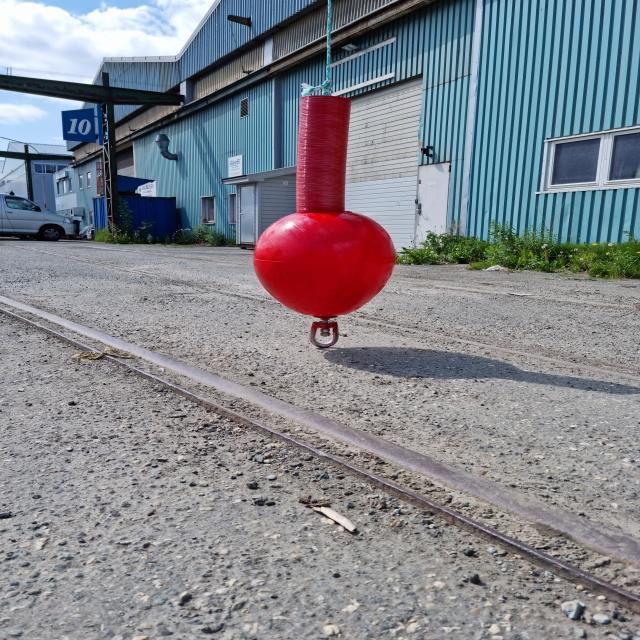red: (254, 96, 398, 316)
